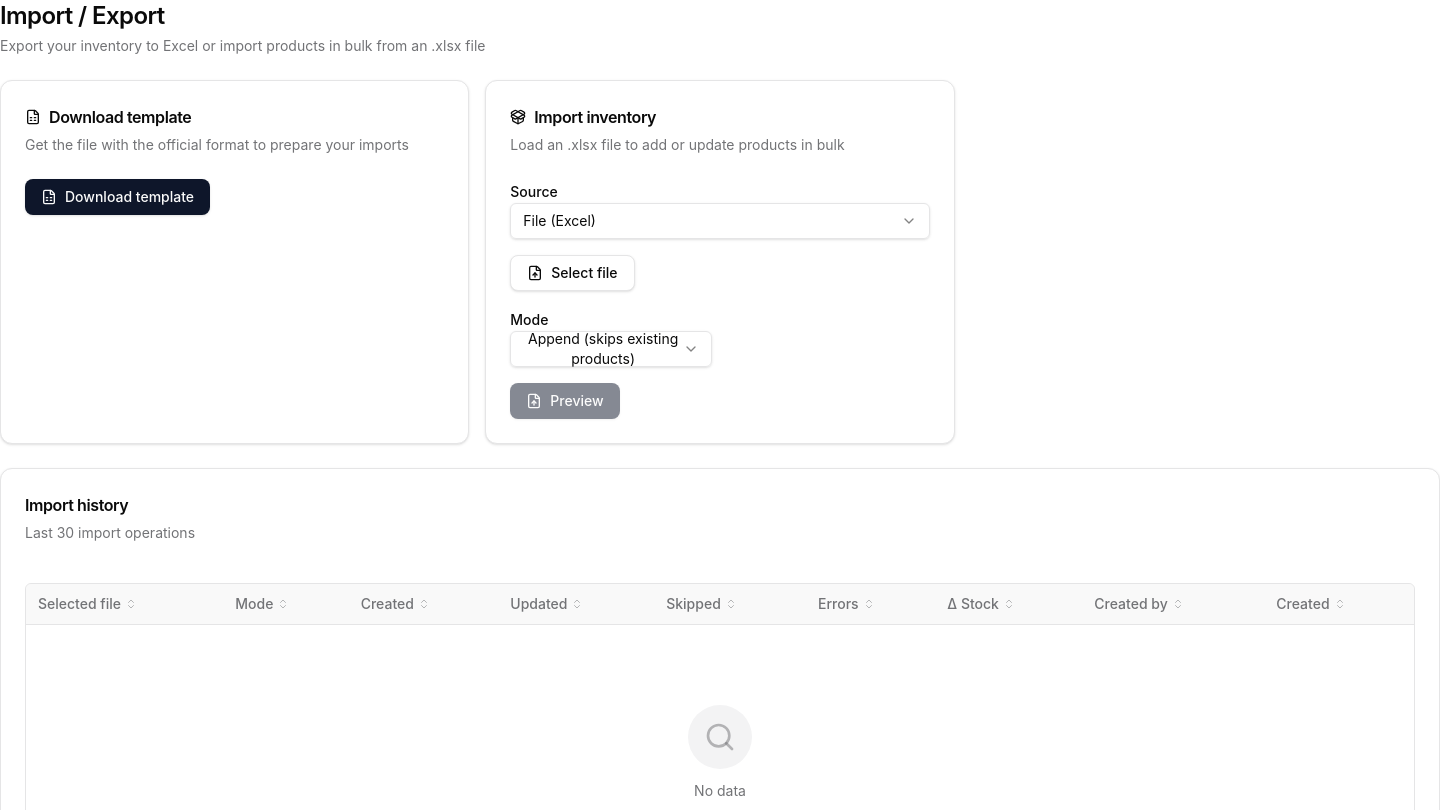
it: ImportExportPage › disables the import button when validation errors exist
Click the button "Select file" at (572, 273), box [510,255,634,291]
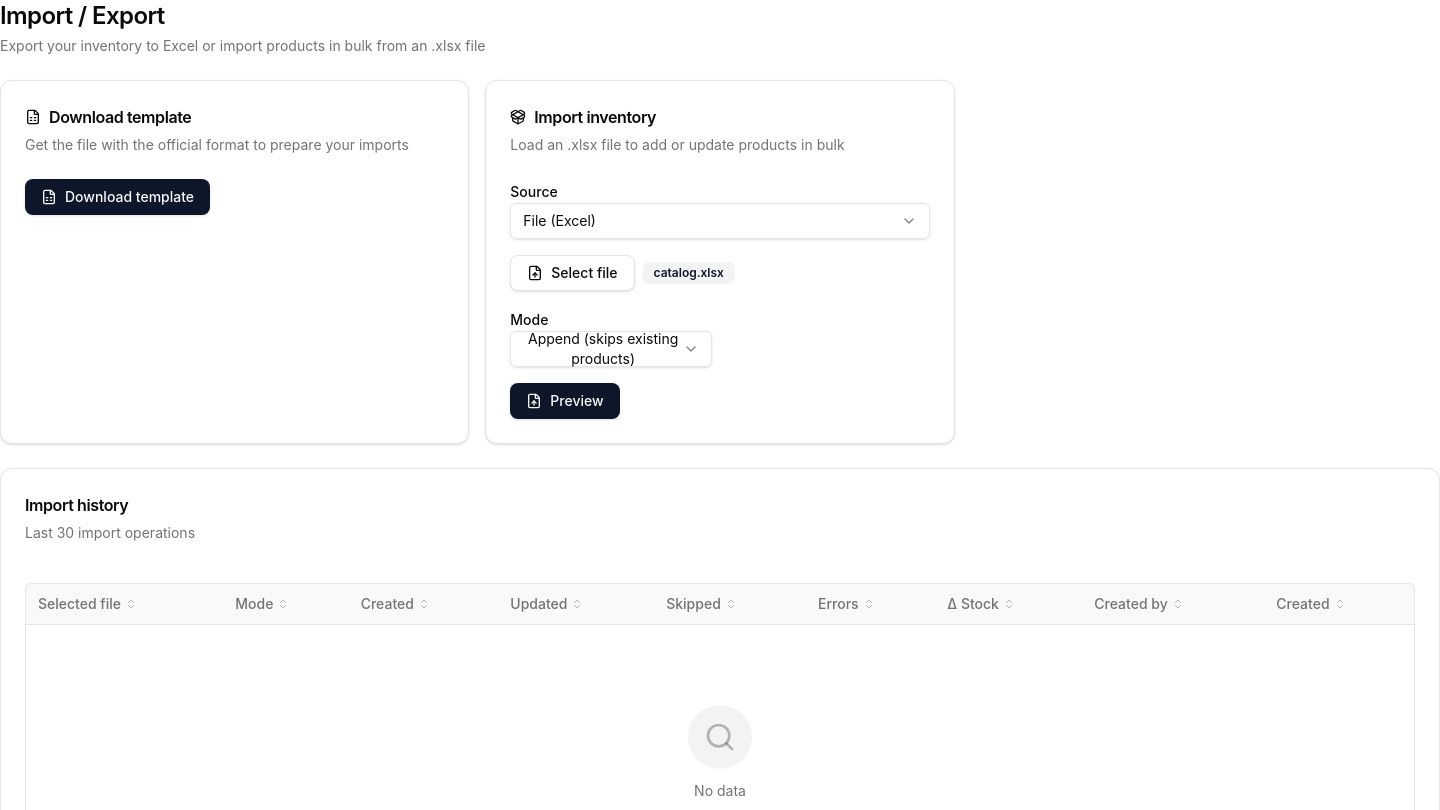
Expected: the text "catalog.xlsx" is shown, [643,262,735,284]
Click the button "Preview" at (565, 401), box [510,383,620,419]
(page scrolled)
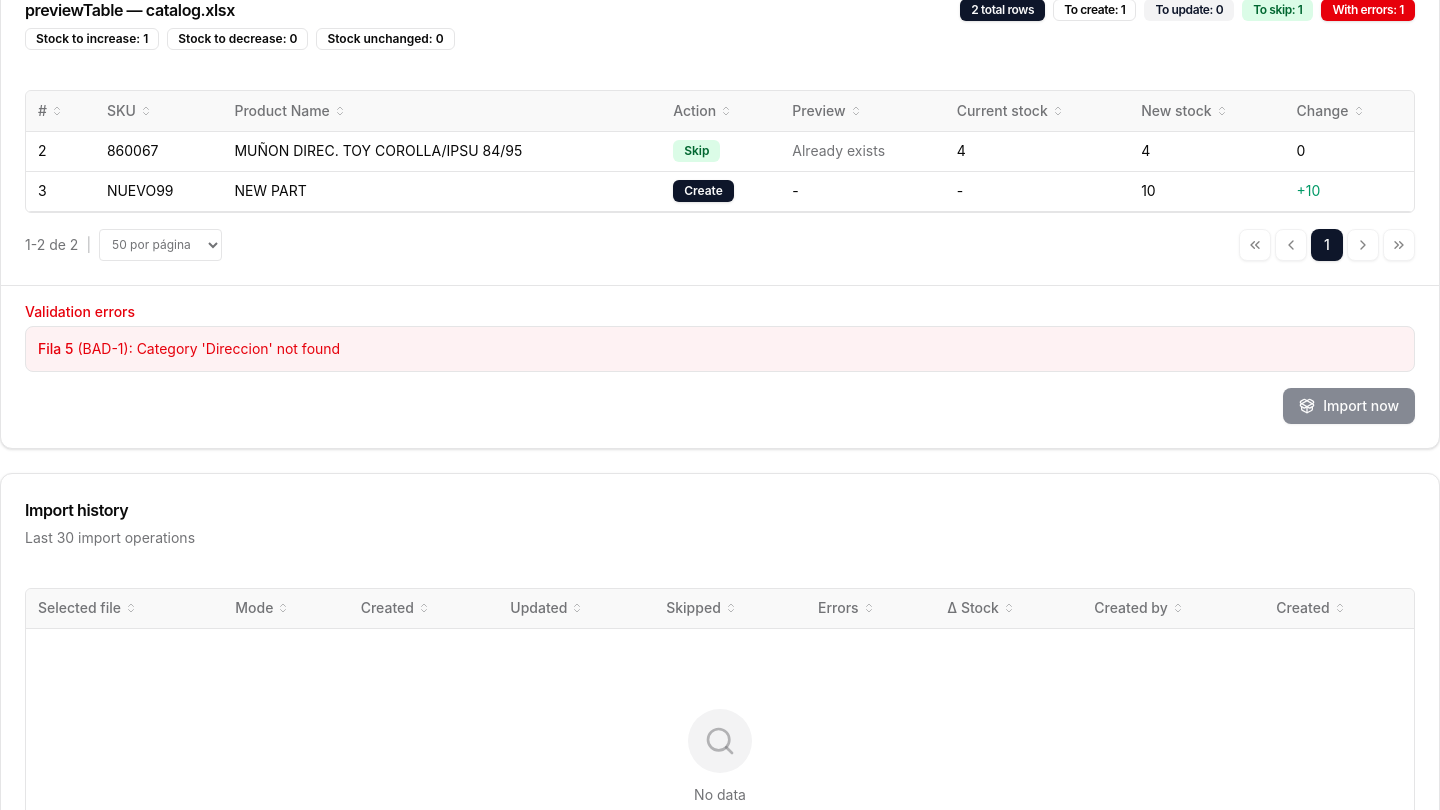
Expected: the text "Fila 5 (BAD-1): Category 'Direccion' not found" is shown, [38,340,340,356]
Expected: the button "Import now" is disabled, [1283,388,1415,424]
